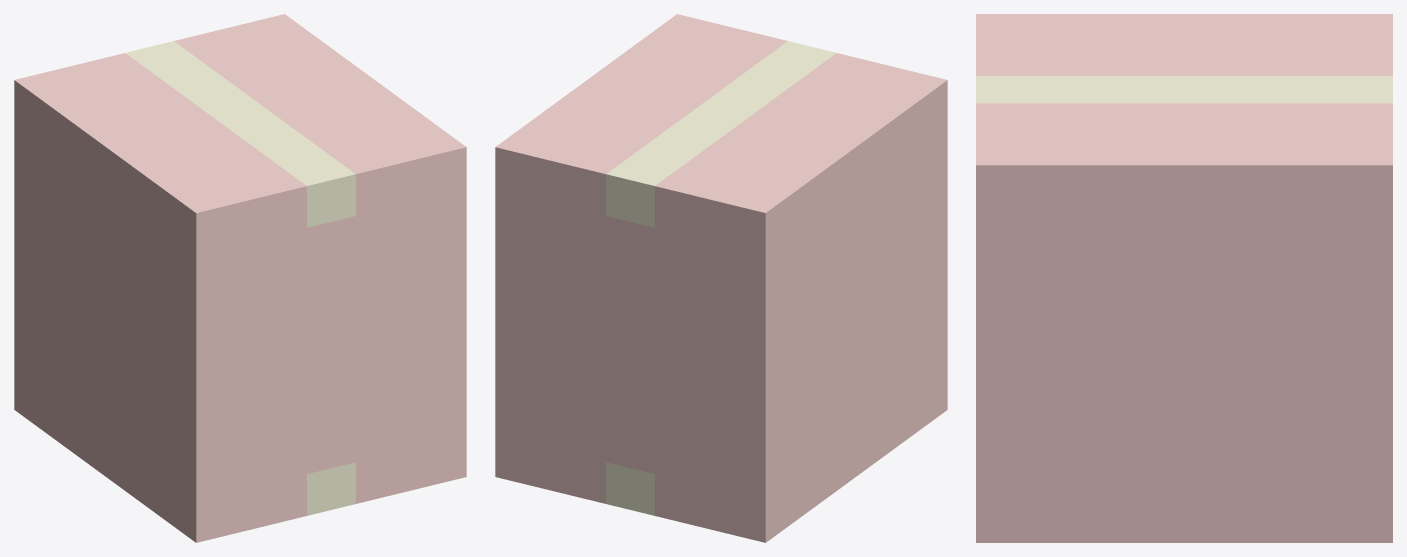
The model's file is main_PINK_03.fbx.
3 renders of one model, left to right at view 1: azimuth 30°, elevation 25°; view 2: azimuth 150°, elevation 25°; view 3: azimuth 270°, elevation 25°, orthographic. The views are drawn at different scales.
Visible parts, largest first — view 1: Cardboard Box 03; view 2: Cardboard Box 03; view 3: Cardboard Box 03.
Part boxes in pixels (x1,y1,x2,y2): Cardboard Box 03: (14,14,466,542); Cardboard Box 03: (495,14,947,542); Cardboard Box 03: (976,14,1392,542).
Size of the model in its own units: 19.48 by 22.7 by 22.7.
